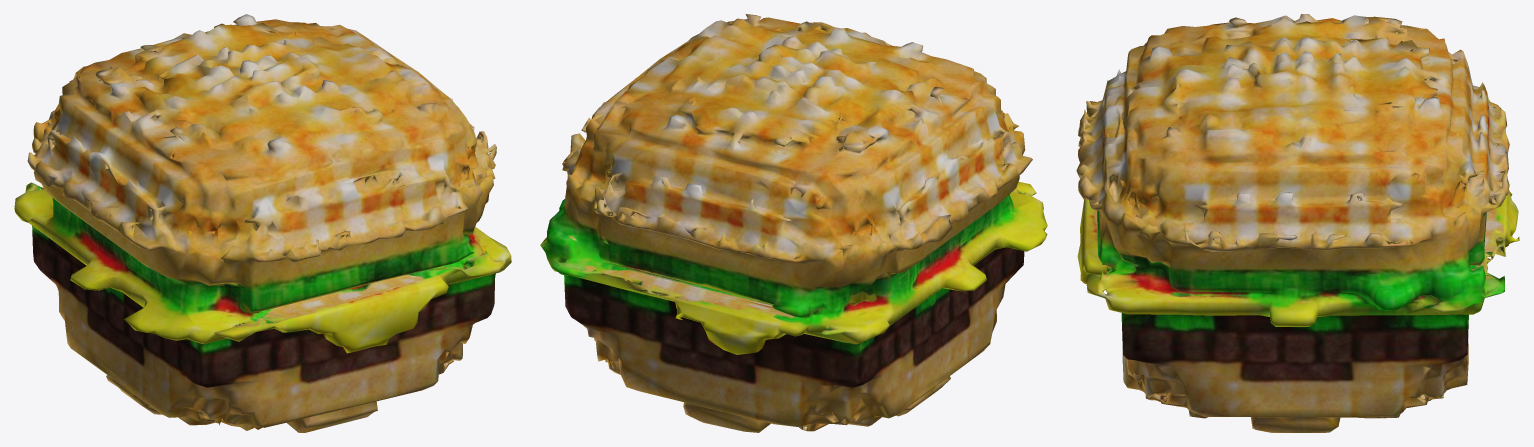
File: pixel_hamburger.glb
3 views of the same model, side by side, from view 1: azimuth 30°, elevation 25°; view 2: azimuth 150°, elevation 25°; view 3: azimuth 270°, elevation 25° (orthographic).
Parts seen in each view (by area): view 1: mesh_base_material_0; view 2: mesh_base_material_0; view 3: mesh_base_material_0.
Part boxes in pixels (left/top/right/bottom): mesh_base_material_0: left=14, top=14, right=511, bottom=432; mesh_base_material_0: left=540, top=14, right=1047, bottom=432; mesh_base_material_0: left=1076, top=14, right=1519, bottom=432.
Bounding box in the file's own units: 0.9959 × 0.7839 × 0.9992.
Materials: 1 (1 with a texture image).
